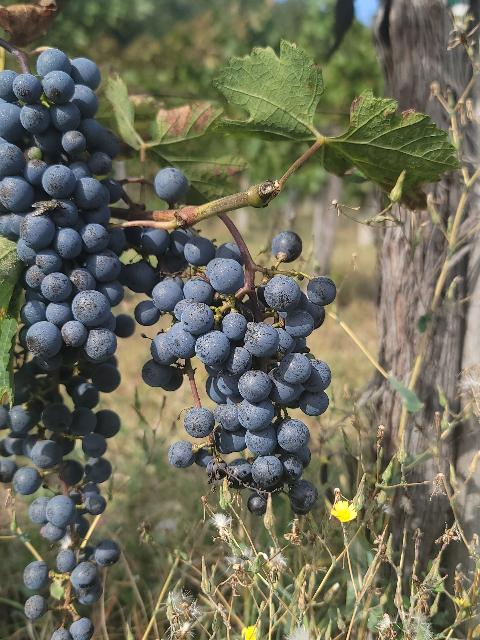grapes: (0, 49, 131, 409), (164, 255, 335, 514), (0, 372, 121, 640)
